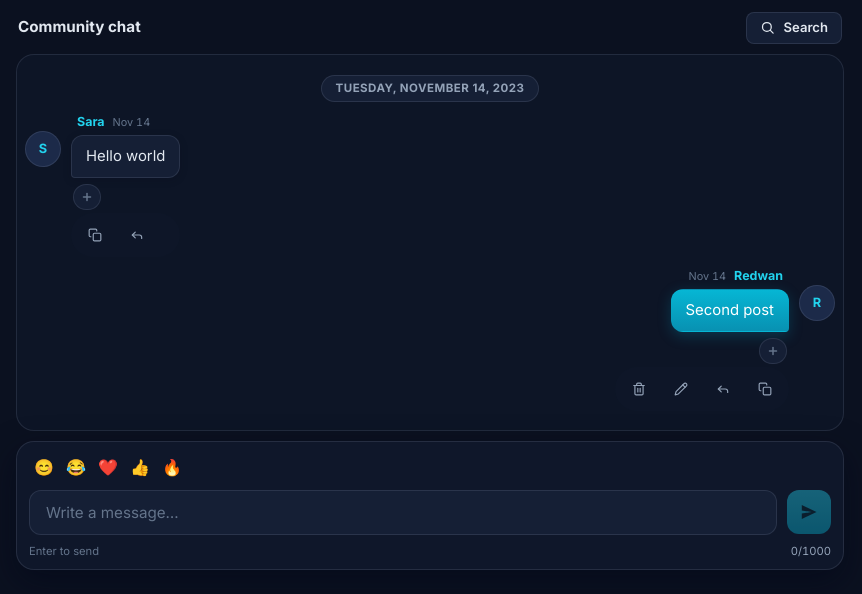
it: ChatRoom › search › filters the visible messages by text and author
The image size is (862, 594).
Click the button "Search".
click(794, 28)  # box [746,12,842,44]
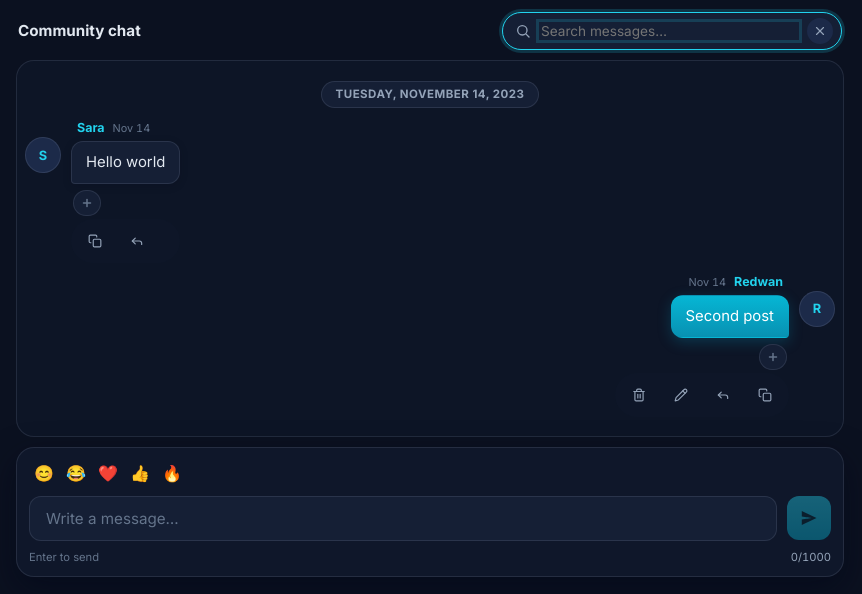
Type "hello" into the field with test id "chat-search-input".
click(669, 31); type("hello")  # box [539,22,799,40]
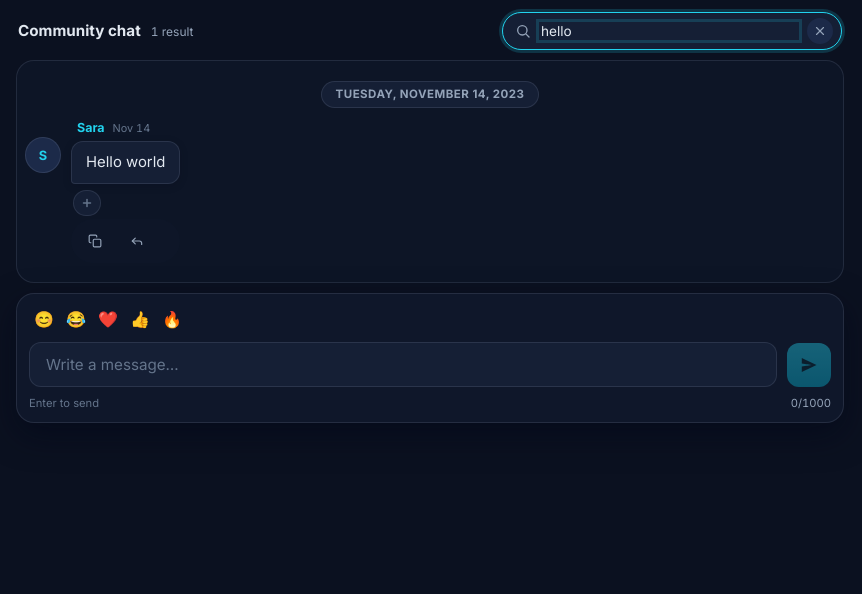
expect the text "Hello world" is shown: met, box [71,141,180,184]
expect the text "Second post" is gone: met
expect the text "1 result" is shown: met, box [151,23,194,41]
